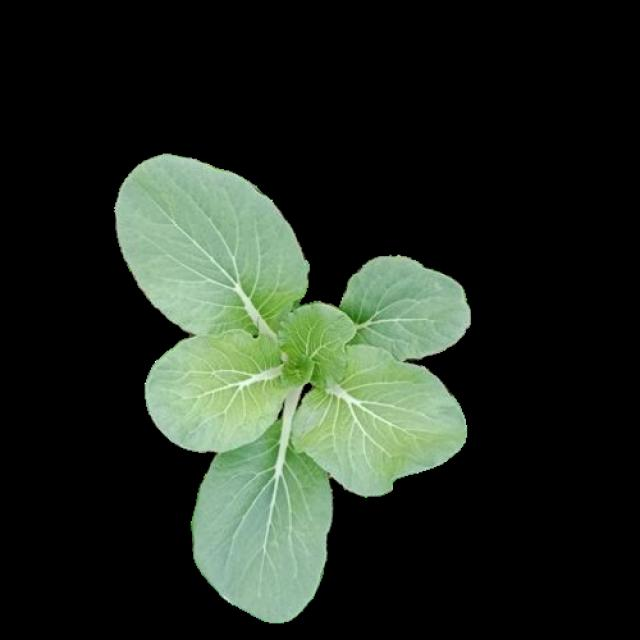healthy: (113, 153, 472, 620)
not-mature: (115, 156, 475, 622)
